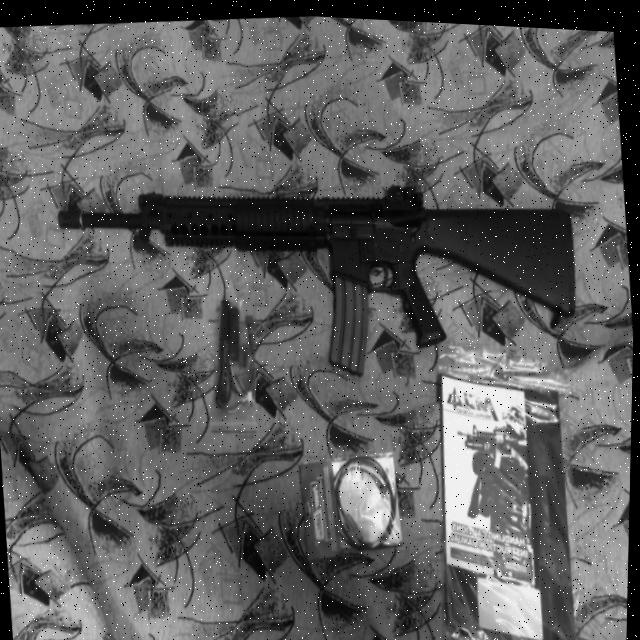rocket: (55, 150, 585, 401)
